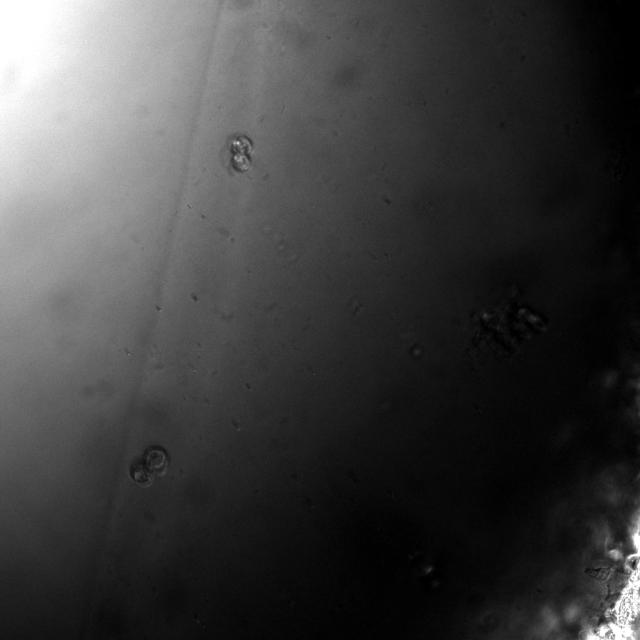organoid: (471, 290, 547, 358), (129, 445, 169, 486), (231, 135, 252, 171)
